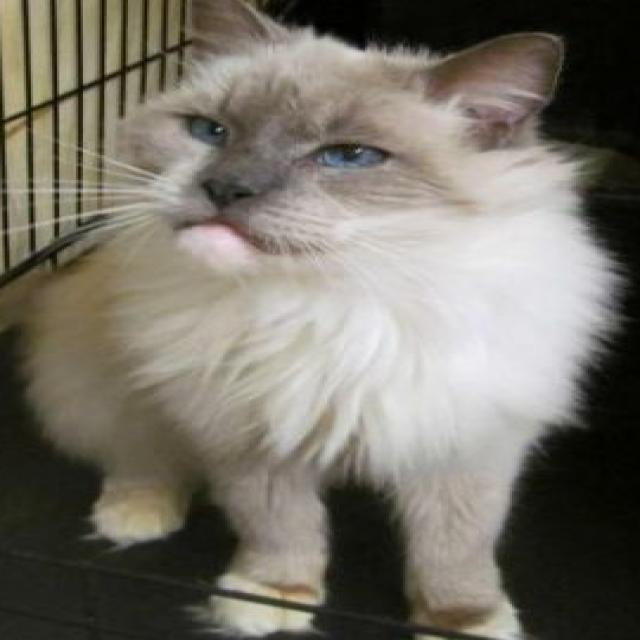Ragdoll: (14, 0, 638, 640)
